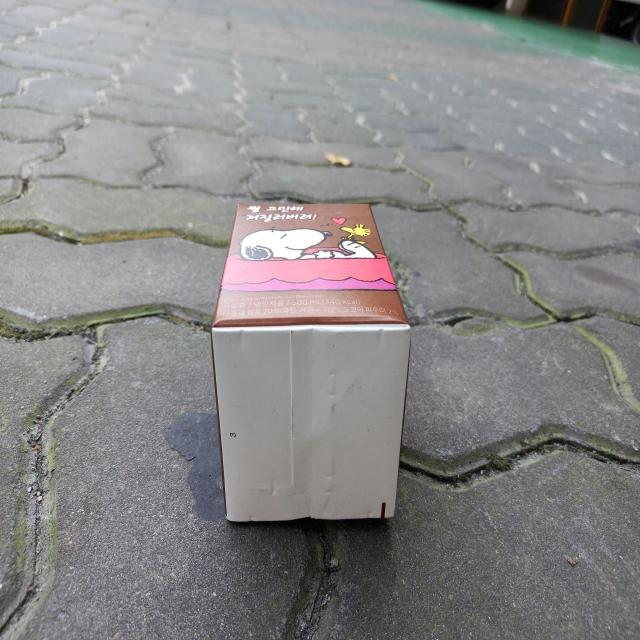paperpack: (211, 203, 411, 522)
